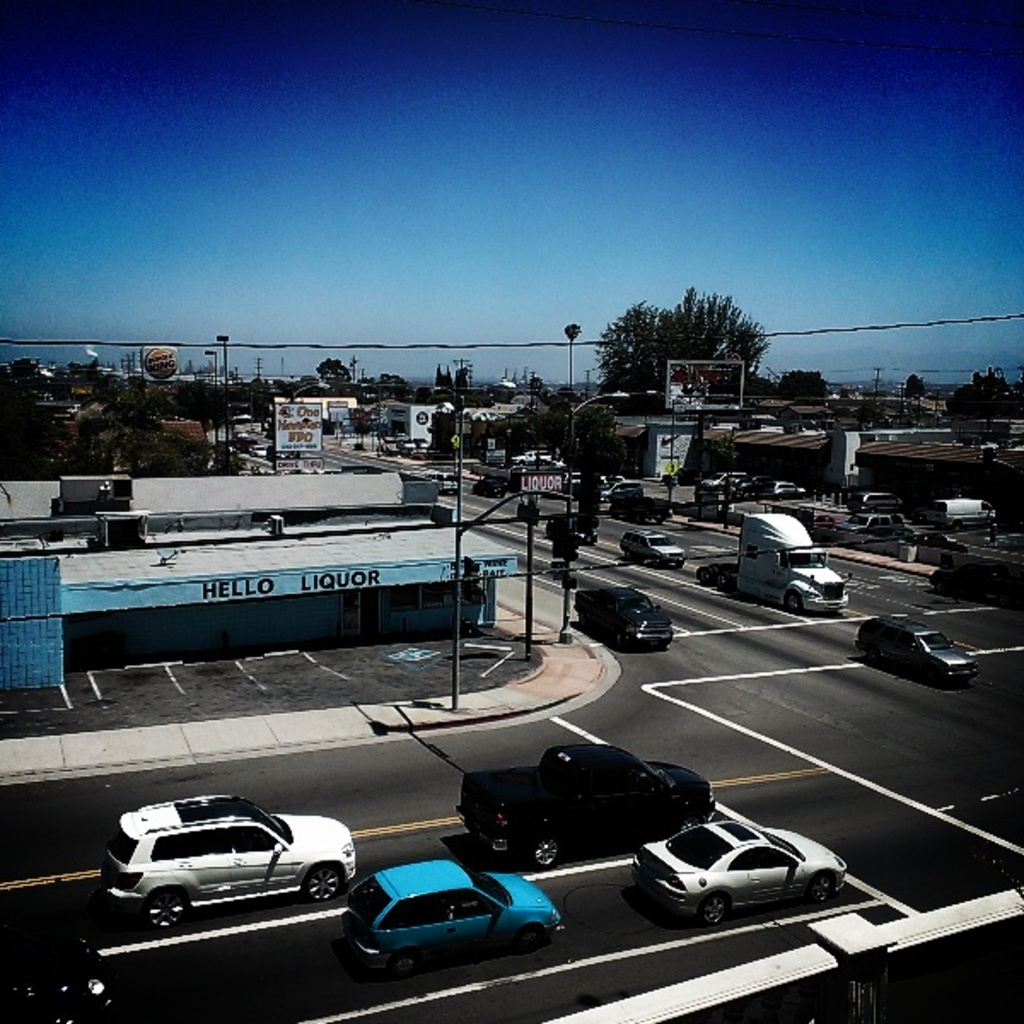Car: (97, 795, 354, 933), (337, 860, 564, 981), (629, 817, 843, 931), (1, 933, 114, 1022), (860, 616, 981, 689), (617, 530, 687, 568), (599, 481, 646, 512)
